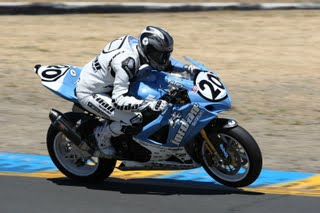helmet: (138, 26, 177, 69)
